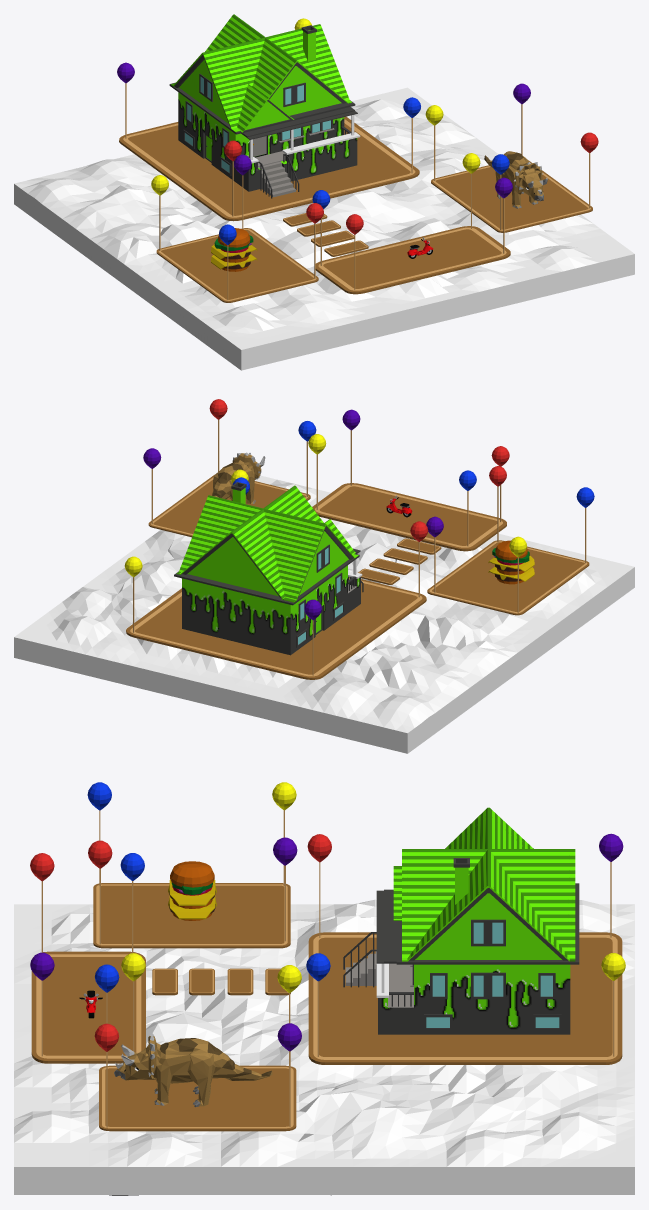
The picture shows the model from 3 angles, top to bottom: view 1: azimuth 30°, elevation 25°; view 2: azimuth 150°, elevation 25°; view 3: azimuth 270°, elevation 25°; orthographic projection. The views are drawn at different scales.
Parts seen in each view (by area): view 1: Cube.013, Cube.754, ANIMAL_Triceratops, OBJRANDOM_HAMBURGER; view 2: Cube.013, Cube.754, ANIMAL_Triceratops, OBJRANDOM_HAMBURGER; view 3: Cube.013, Cube.754, ANIMAL_Triceratops, OBJRANDOM_HAMBURGER.
Boxes of the visible parts, x1=… form: Cube.013: x1=14, y1=18, x2=634, y2=370; Cube.754: x1=169, y1=14, x2=360, y2=198; ANIMAL_Triceratops: x1=484, y1=151, x2=547, y2=208; OBJRANDOM_HAMBURGER: x1=211, y1=228, x2=257, y2=271; Cube.013: x1=14, y1=399, x2=634, y2=753; Cube.754: x1=174, y1=482, x2=363, y2=655; ANIMAL_Triceratops: x1=212, y1=452, x2=265, y2=503; OBJRANDOM_HAMBURGER: x1=488, y1=540, x2=534, y2=584; Cube.013: x1=14, y1=782, x2=634, y2=1194; Cube.754: x1=343, y1=807, x2=579, y2=1034; ANIMAL_Triceratops: x1=114, y1=1033, x2=272, y2=1107; OBJRANDOM_HAMBURGER: x1=168, y1=861, x2=216, y2=920.
Bounding box in the file's own units: 4000 × 1660 × 4000.
Materials: 36 (2 with a texture image).
